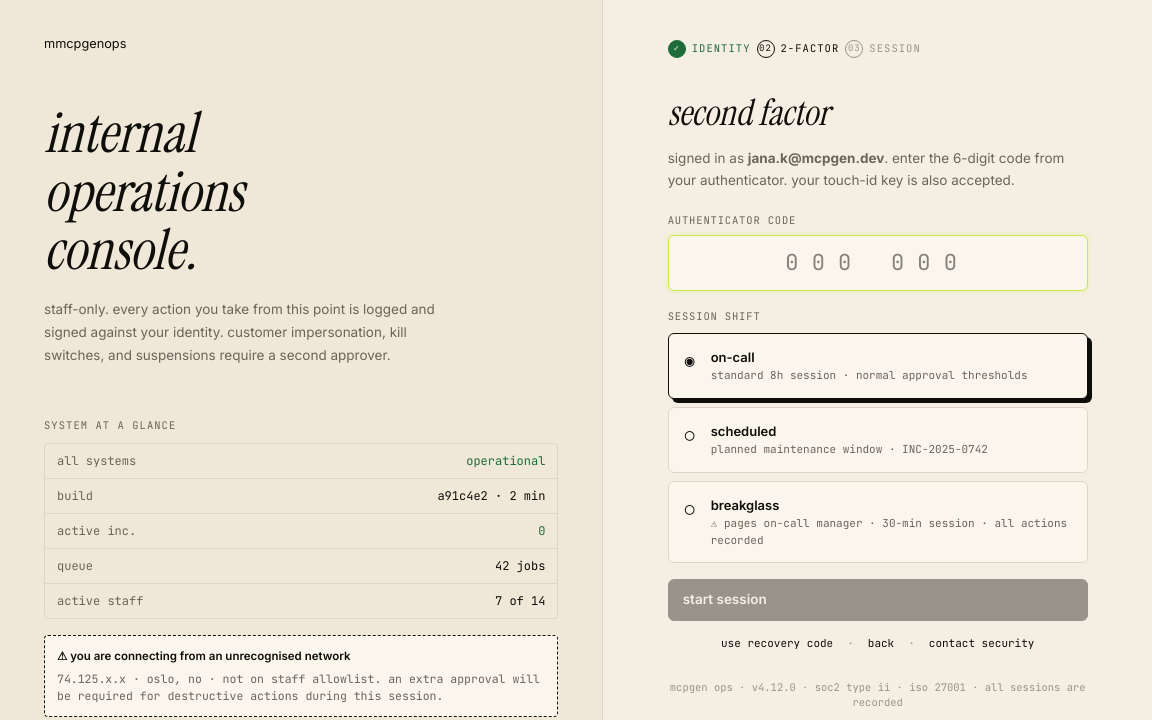
Test: <Login /> › back link from MFA returns to SSO
Click the button "back" at {"x": 881, "y": 643}, box [868,635,894,652]
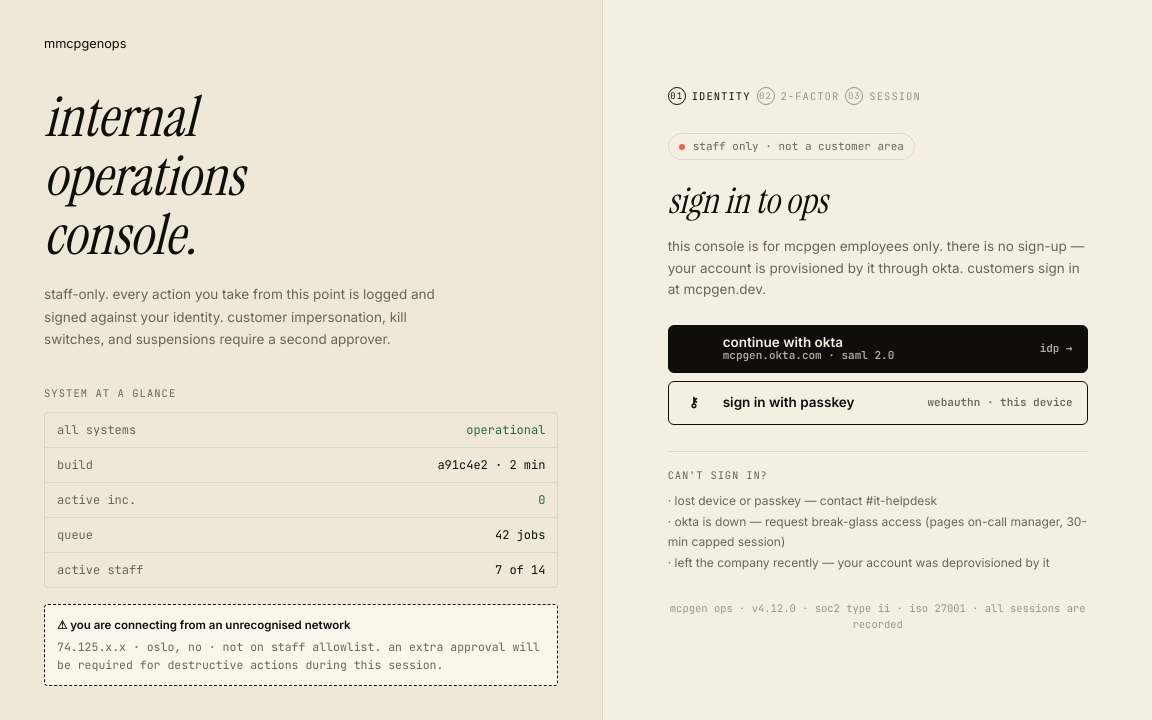
Check: the heading "sign in to ops" is shown, box [668,177,827,224]
